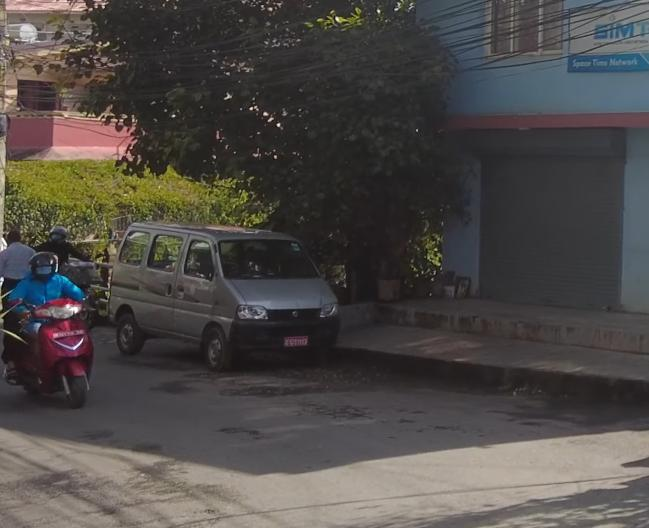scooter: (0, 288, 98, 407)
van: (109, 213, 347, 383)
